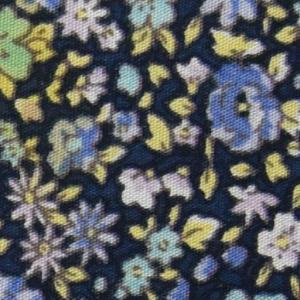Stain: (1, 1, 93, 168)
